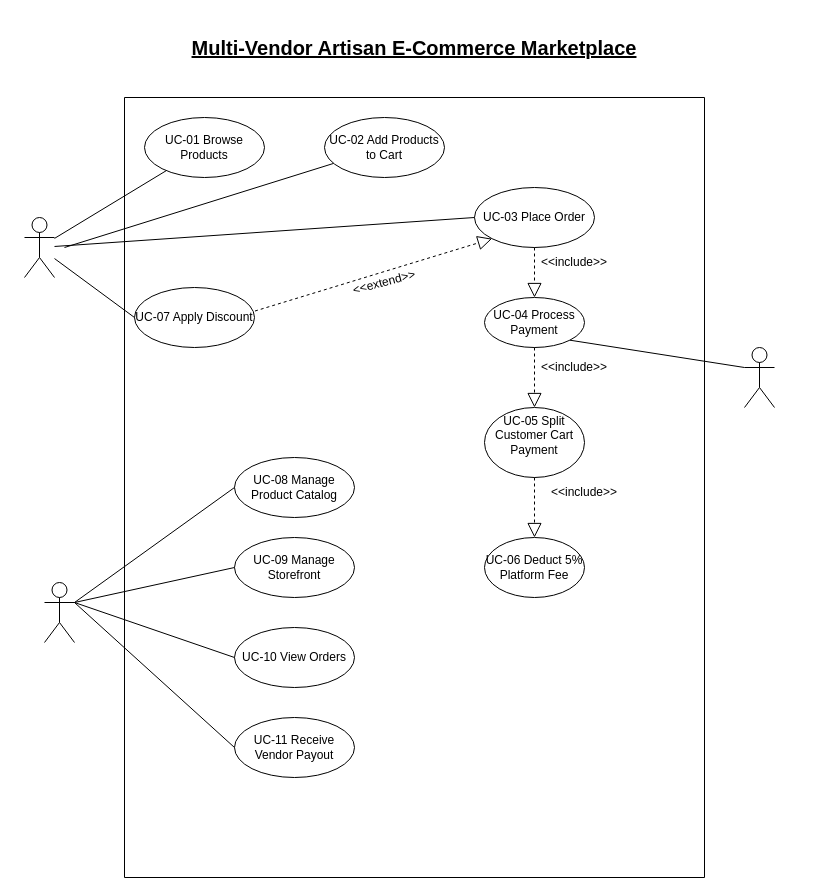
The diagram is 826 pixels wide and 895 high, and some of its shapes have lost their labels. Each missing label, with the box of its shape:
Artisan Vendor: (44, 582, 74, 642)
Payment Gateway: (744, 346, 774, 408)
Shopper: (24, 216, 54, 278)
